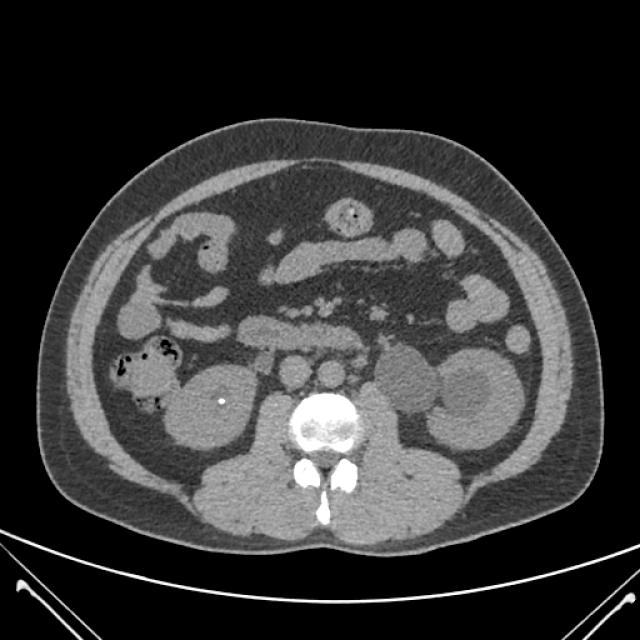kidneystone: (218, 398, 225, 404)
